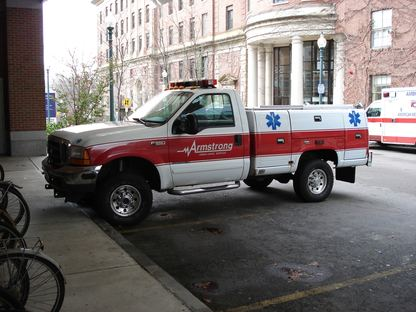ambulance: (364, 87, 416, 151)
truck: (37, 85, 362, 221)
